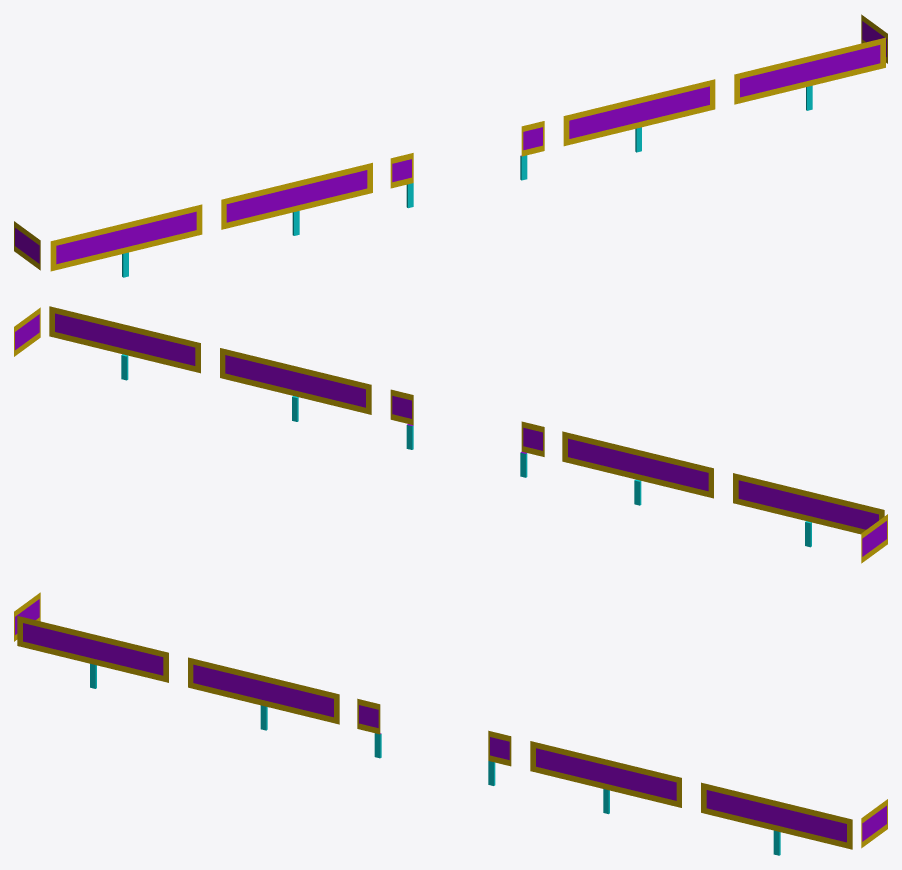
The model's file is Bottom Railings.fbx.
3 views of the same model, one above another, from view 1: azimuth 30°, elevation 25°; view 2: azimuth 150°, elevation 25°; view 3: azimuth 330°, elevation 25° (orthographic).
Visible parts, largest first — view 1: Bottom Railings; view 2: Bottom Railings; view 3: Bottom Railings.
Boxes of the visible parts, bbox=[...] form: Bottom Railings: bbox=[14, 14, 887, 277]; Bottom Railings: bbox=[14, 306, 887, 563]; Bottom Railings: bbox=[14, 592, 887, 855].
Size of the model in its own units: 1887 by 115 by 116.
